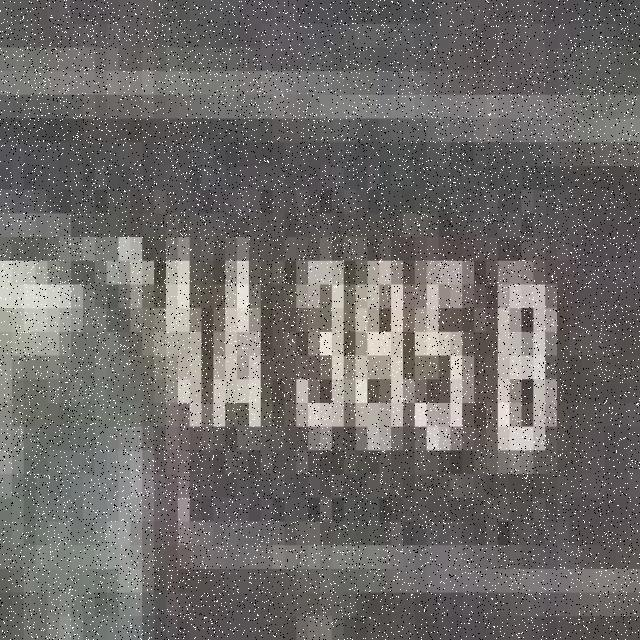licenseplate: (22, 119, 610, 574)
